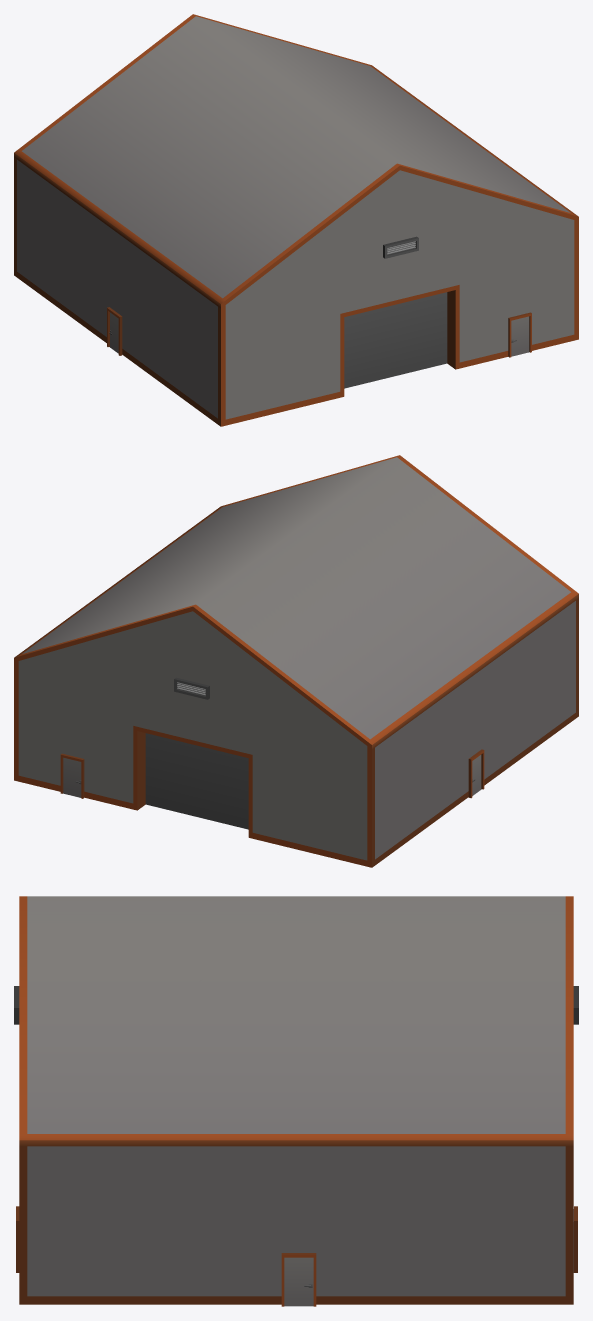
File: buildings-industrial-warehouse_v1.glb
3 views of the same model, one above another, from view 1: azimuth 30°, elevation 25°; view 2: azimuth 150°, elevation 25°; view 3: azimuth 270°, elevation 25° (orthographic). The views are drawn at different scales.
Parts seen in each view (by area): view 1: Warehouse_v1_base; view 2: Warehouse_v1_base; view 3: Warehouse_v1_base.
Part boxes in pixels (bbox=[...]): Warehouse_v1_base: bbox=[14, 14, 578, 426]; Warehouse_v1_base: bbox=[14, 455, 578, 867]; Warehouse_v1_base: bbox=[14, 896, 578, 1306].
Size of the model in its own units: 23.75 by 13.59 by 23.81.
